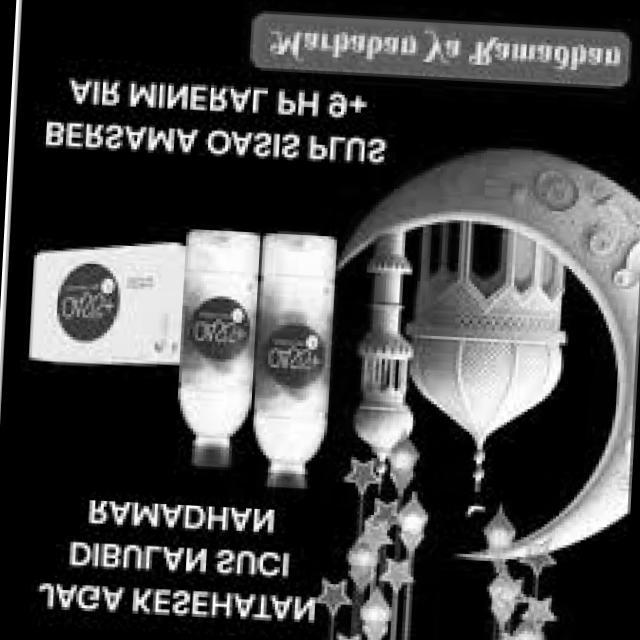good: (163, 226, 276, 473)
